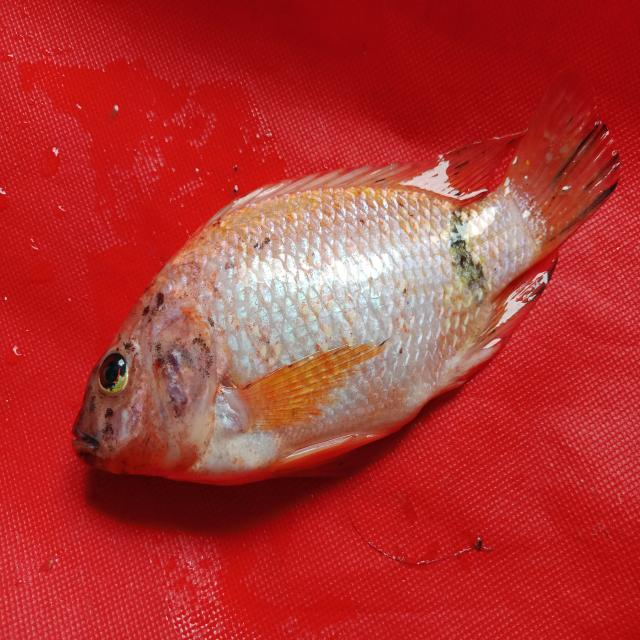ikan: (64, 75, 620, 506)
